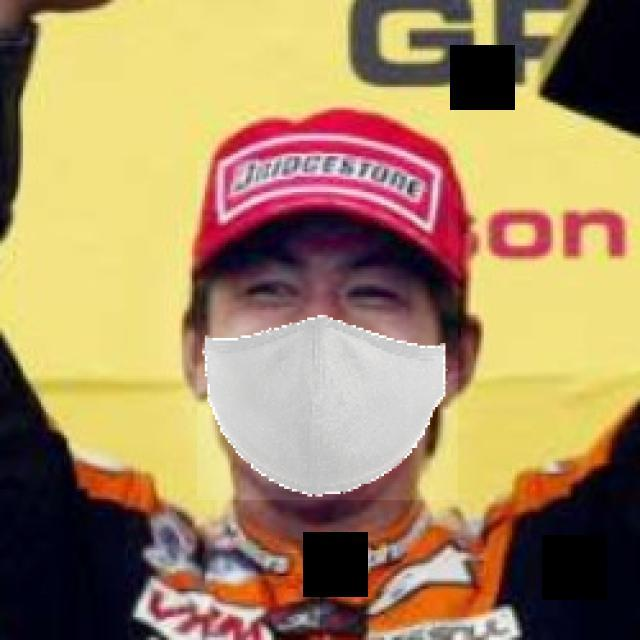cloth: (197, 161, 458, 501)
